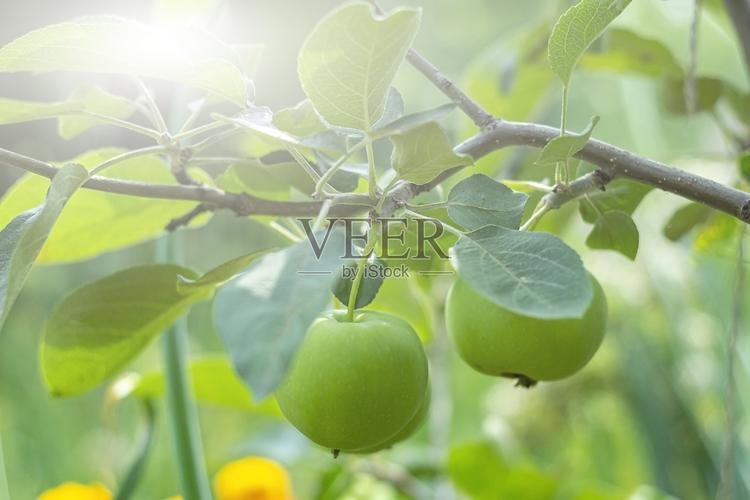unripe: (445, 236, 619, 398), (265, 301, 435, 464)
